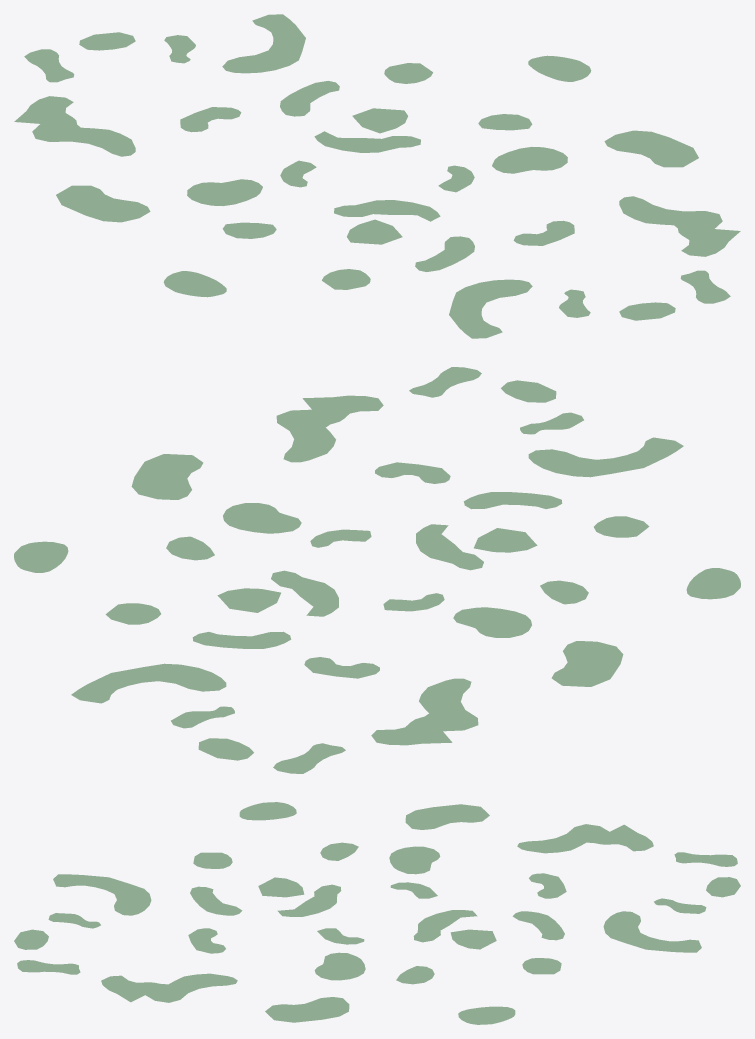
The model's file is ME_BushMap_04.fbx.
3 views of the same model, one above another, from view 1: azimuth 30°, elevation 25°; view 2: azimuth 150°, elevation 25°; view 3: azimuth 270°, elevation 25° (orthographic). The views are drawn at different scales.
Visible parts, largest first — view 1: Bush 07; view 2: Bush 07; view 3: Bush 07.
Boxes of the visible parts, bbox=[...] form: Bush 07: bbox=[14, 14, 740, 338]; Bush 07: bbox=[14, 367, 740, 773]; Bush 07: bbox=[14, 802, 740, 1024].
Size of the model in its own units: 6949 by 0.00156 by 9579.
